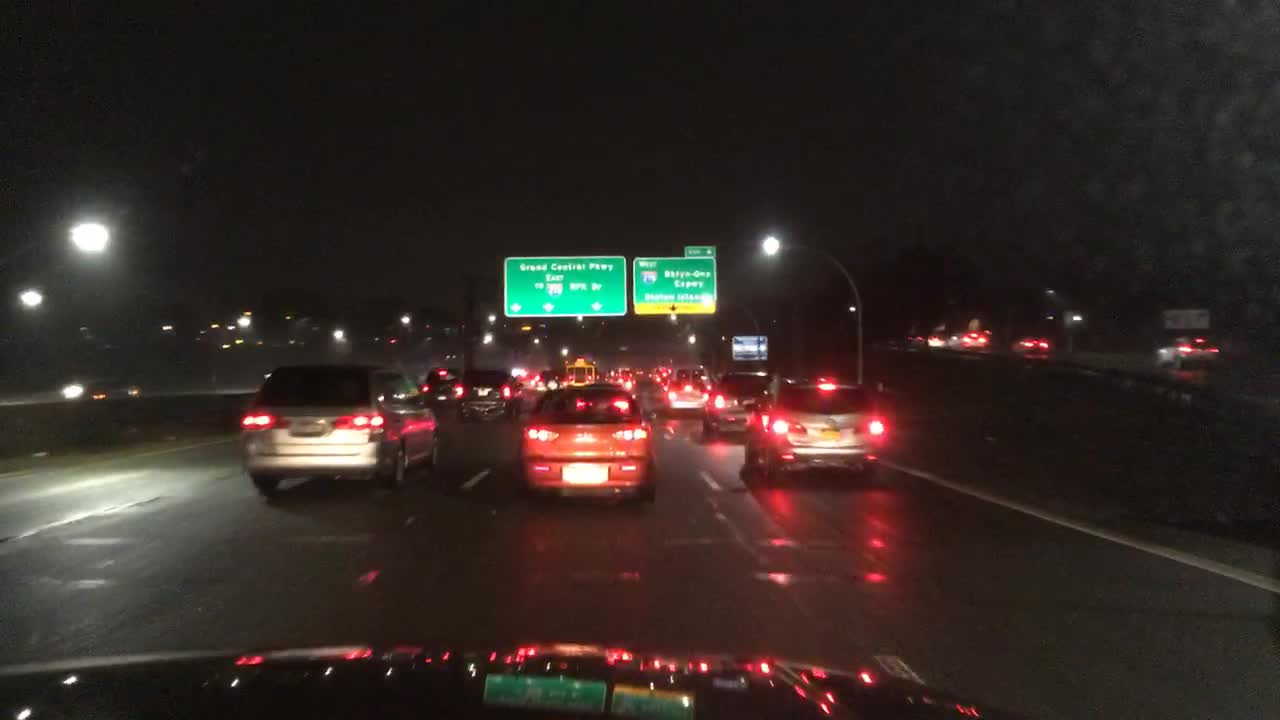bus: (566, 359, 600, 385)
car: (244, 363, 439, 490), (520, 386, 656, 496), (746, 376, 880, 477), (711, 373, 767, 436), (459, 373, 521, 422), (1155, 335, 1220, 366), (62, 376, 145, 399), (422, 369, 466, 404), (666, 376, 708, 410), (1015, 334, 1050, 354), (949, 333, 990, 348), (895, 333, 925, 348), (928, 331, 952, 348), (537, 370, 558, 389), (618, 370, 637, 386), (526, 366, 541, 386), (653, 366, 668, 381), (605, 368, 615, 385)
traffic sign: (505, 255, 626, 314), (633, 258, 716, 314), (1165, 306, 1211, 330), (732, 335, 767, 358), (682, 244, 716, 257)
truck: (671, 361, 711, 375)
